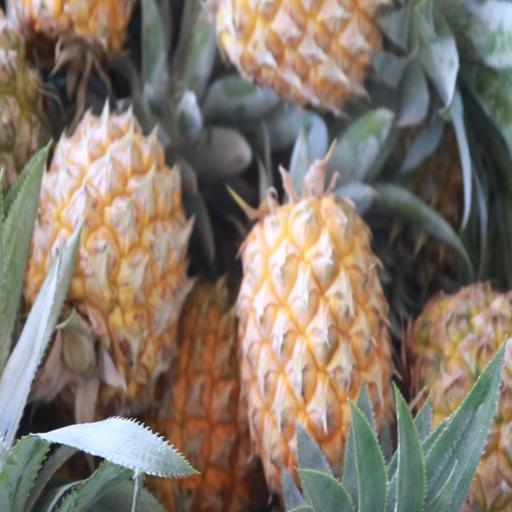Pineapple - v8 v1: (241, 203, 393, 512), (36, 110, 187, 398), (146, 284, 259, 512), (399, 287, 512, 509)
